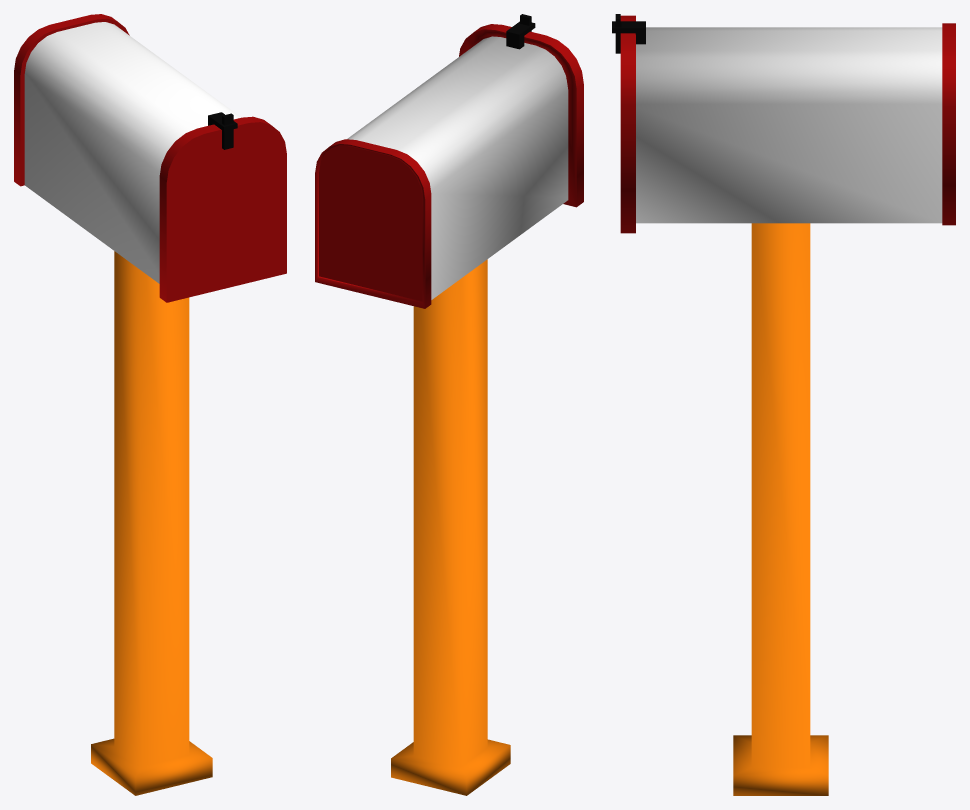
File: Mailbox.fbx
The picture shows the model from 3 angles, left to right: view 1: azimuth 30°, elevation 25°; view 2: azimuth 150°, elevation 25°; view 3: azimuth 270°, elevation 25°; orthographic projection. The views are drawn at different scales.
Visible parts, largest first — view 1: Mailbox; view 2: Mailbox; view 3: Mailbox.
Part boxes in pixels (<box>): Mailbox: <box>14,14,286,795</box>; Mailbox: <box>315,14,583,795</box>; Mailbox: <box>612,14,955,795</box>.
Size of the model in its own units: 0.2066 by 0.4792 by 1.17.
